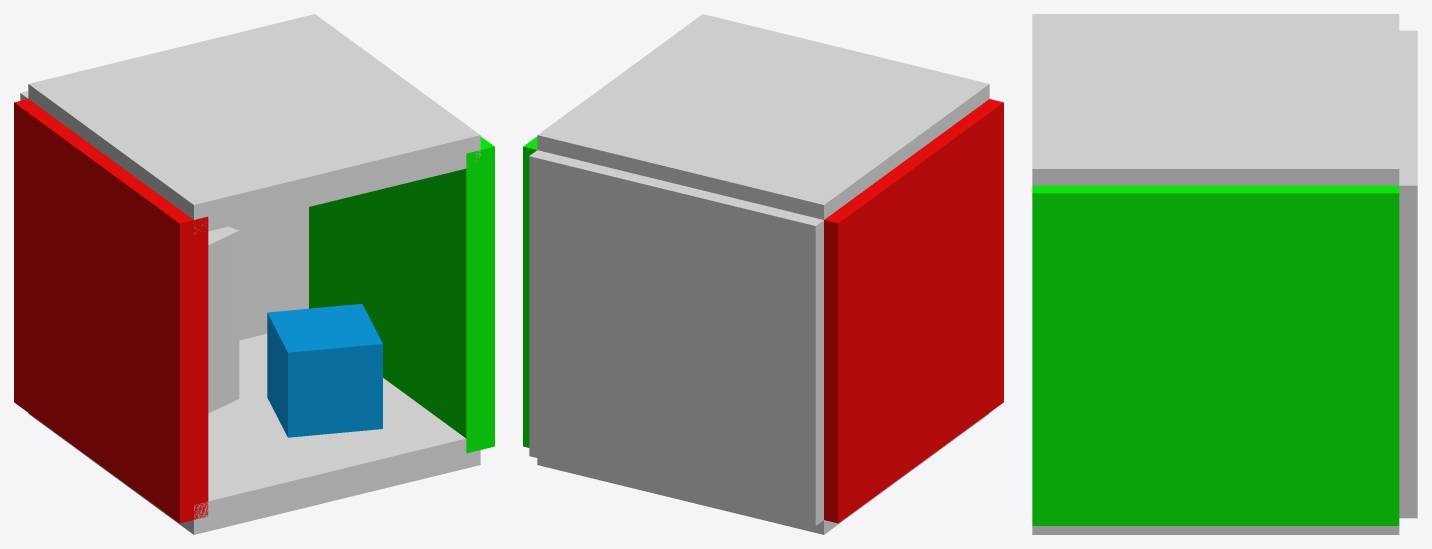
Rendered from cornell_boxes_with_light_mirror.glb.
The picture shows the model from 3 angles, left to right: view 1: azimuth 30°, elevation 25°; view 2: azimuth 150°, elevation 25°; view 3: azimuth 270°, elevation 25°; orthographic projection. The views are drawn at different scales.
Parts seen in each view (by area): view 1: Cube.001, Cube.002, Cube.003, Cube.004, Cube.006, Cube, Cube.007; view 2: Cube, Cube.001, Cube.002, Cube.004, Cube.003; view 3: Cube.003, Cube.002, Cube, Cube.004.
Boxes of the visible parts, box(x1,y1,x2,y2) form: Cube.001: box(14, 99, 208, 523); Cube.002: box(28, 14, 480, 234); Cube.003: box(309, 136, 494, 453); Cube.004: box(28, 334, 480, 534); Cube.006: box(267, 304, 382, 437); Cube: box(20, 91, 308, 340); Cube.007: box(208, 226, 239, 413); Cube: box(529, 150, 823, 525); Cube.001: box(824, 99, 1003, 523); Cube.002: box(537, 14, 989, 219); Cube.004: box(537, 413, 989, 534); Cube.003: box(523, 136, 537, 447); Cube.003: box(1032, 185, 1399, 525); Cube.002: box(1032, 14, 1399, 185); Cube: box(1399, 30, 1417, 518); Cube.004: box(1032, 526, 1399, 534).
Size of the model in its own units: 2.2 by 2.2 by 2.1.
